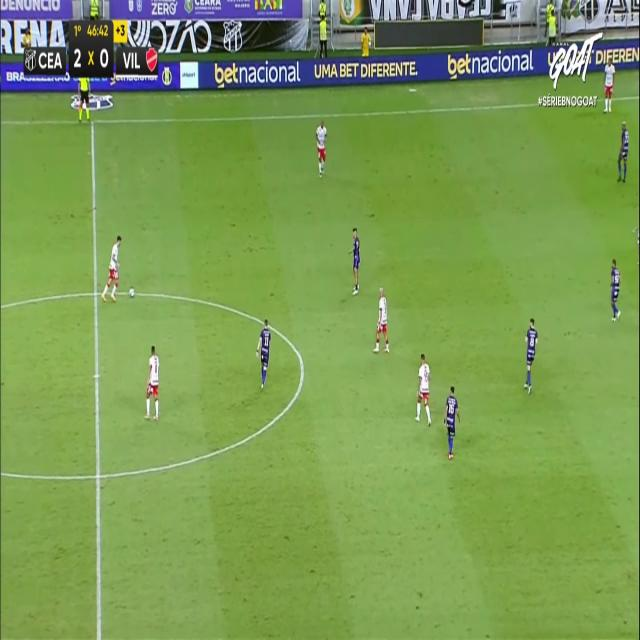ball: (125, 285, 139, 303)
player: (101, 235, 122, 302), (415, 352, 432, 426), (144, 344, 160, 420), (372, 286, 390, 353), (444, 385, 460, 459), (255, 318, 271, 390), (523, 316, 537, 394), (348, 227, 360, 295), (617, 120, 629, 182), (610, 258, 621, 322), (603, 56, 615, 113), (316, 120, 327, 177)
referee: (77, 76, 91, 122)
